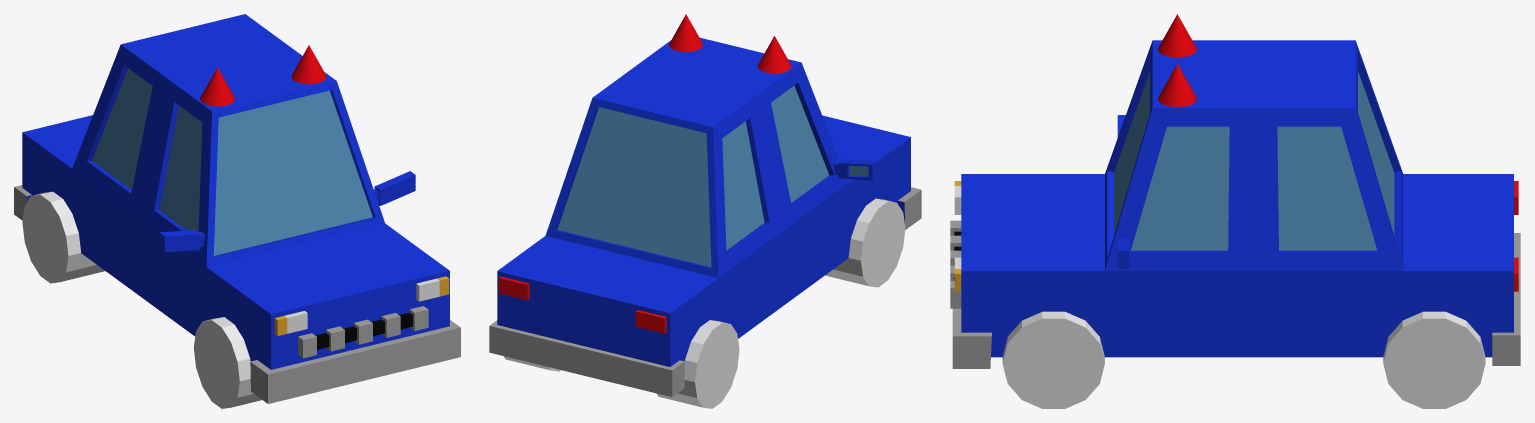
Rendered from SibCar.fbx.
3 renders of one model, left to right at view 1: azimuth 30°, elevation 25°; view 2: azimuth 150°, elevation 25°; view 3: azimuth 270°, elevation 25°, orthographic. The views are drawn at different scales.
Parts seen in each view (by area): view 1: Cube, Cylinder.002, Cylinder, Cube.003, Cube.002, Cube.001, Cone, Cone.001; view 2: Cube, Cylinder.002, Cylinder, Cube.004, Cube.002, Cone.001, Cone; view 3: Cube, Cylinder, Cylinder.002, Cone.001, Cone, Cube.003, Cube.001, Cube.002.
Boxes of the visible parts, bbox=[...] form: Cube: bbox=[14, 14, 460, 403]; Cylinder.002: bbox=[22, 191, 104, 283]; Cylinder: bbox=[193, 317, 261, 408]; Cube.003: bbox=[298, 306, 428, 358]; Cube.002: bbox=[159, 171, 415, 251]; Cube.001: bbox=[274, 276, 449, 335]; Cone: bbox=[291, 45, 326, 84]; Cone.001: bbox=[200, 67, 234, 106]; Cube: bbox=[489, 37, 921, 397]; Cylinder.002: bbox=[504, 320, 739, 408]; Cylinder: bbox=[825, 198, 905, 287]; Cube.004: bbox=[498, 276, 666, 333]; Cube.002: bbox=[833, 159, 877, 180]; Cone.001: bbox=[757, 36, 791, 73]; Cone: bbox=[669, 14, 702, 51]; Cube: bbox=[952, 40, 1520, 368]; Cylinder: bbox=[1002, 311, 1104, 408]; Cylinder.002: bbox=[1383, 311, 1485, 408]; Cone.001: bbox=[1158, 14, 1196, 57]; Cone: bbox=[1158, 64, 1196, 107]; Cube.003: bbox=[950, 220, 961, 308]; Cube.001: bbox=[954, 181, 961, 291]; Cube.002: bbox=[1117, 115, 1129, 268].
Size of the model in its own units: 567 by 612 by 1005.
